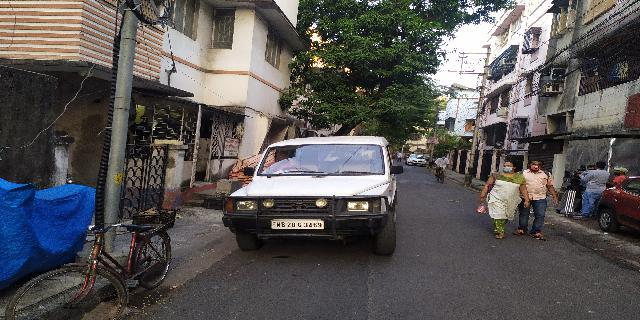Car: (216, 132, 412, 259)
Cycle: (7, 207, 184, 320)
